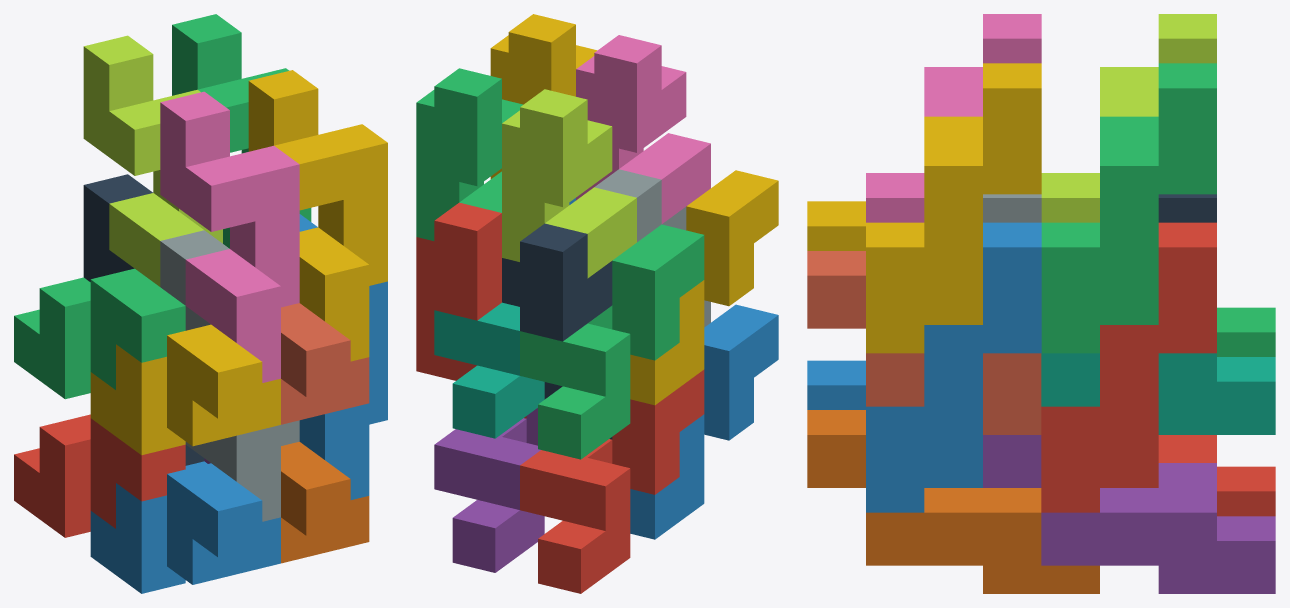
The model's file is tiling.obj.
3 views of the same model, side by side, from view 1: azimuth 30°, elevation 25°; view 2: azimuth 150°, elevation 25°; view 3: azimuth 270°, elevation 25° (orthographic). The views are drawn at different scales.
Visible parts, largest first — view 1: copy_2_domain_4, copy_2_domain_8, copy_1_domain_2, copy_1_domain_4, copy_1_domain_3, copy_2_domain_3, copy_1_domain_1, copy_1_domain_8, copy_1_domain_6, copy_2_domain_2, copy_2_domain_6, copy_2_domain_7 (+1 smaller); view 2: copy_1_domain_3, copy_1_domain_1, copy_2_domain_3, copy_2_domain_4, copy_1_domain_4, copy_1_domain_2, copy_2_domain_7, copy_1_domain_5, copy_2_domain_5, copy_1_domain_7, copy_2_domain_1, copy_2_domain_8 (+1 smaller); view 3: copy_2_domain_7, copy_2_domain_8, copy_2_domain_5, copy_2_domain_6, copy_1_domain_5, copy_1_domain_6, copy_1_domain_7, copy_1_domain_8, copy_2_domain_4, copy_2_domain_3, copy_1_domain_1, copy_1_domain_2 (+4 smaller).
Boxes of the visible parts, left/top/right/bottom form: copy_2_domain_4: left=160, top=91, right=299, bottom=382; copy_2_domain_8: left=248, top=70, right=387, bottom=361; copy_1_domain_2: left=90, top=461, right=280, bottom=593; copy_1_domain_4: left=90, top=324, right=280, bottom=455; copy_1_domain_3: left=14, top=268, right=185, bottom=399; copy_2_domain_3: left=83, top=35, right=222, bottom=286; copy_1_domain_1: left=14, top=414, right=185, bottom=537; copy_1_domain_8: left=281, top=303, right=369, bottom=424; copy_1_domain_6: left=281, top=441, right=369, bottom=563; copy_2_domain_2: left=160, top=230, right=299, bottom=521; copy_2_domain_6: left=299, top=214, right=387, bottom=499; copy_2_domain_7: left=172, top=14, right=311, bottom=248; copy_1_domain_3: left=520, top=224, right=704, bottom=459; copy_1_domain_1: left=520, top=369, right=704, bottom=593; copy_2_domain_3: left=502, top=89, right=636, bottom=278; copy_2_domain_4: left=576, top=35, right=710, bottom=223; copy_1_domain_4: left=630, top=170, right=778, bottom=405; copy_1_domain_2: left=630, top=304, right=778, bottom=539; copy_2_domain_7: left=416, top=68, right=522, bottom=240; copy_1_domain_5: left=434, top=408, right=544, bottom=572; copy_2_domain_5: left=416, top=202, right=526, bottom=418; copy_1_domain_7: left=434, top=302, right=544, bottom=438; copy_2_domain_1: left=502, top=223, right=612, bottom=439; copy_2_domain_8: left=490, top=14, right=597, bottom=178; copy_2_domain_7: left=1041, top=63, right=1216, bottom=353; copy_2_domain_8: left=866, top=63, right=1041, bottom=353; copy_2_domain_5: left=1041, top=222, right=1216, bottom=512; copy_2_domain_6: left=866, top=222, right=1041, bottom=512; copy_1_domain_5: left=983, top=435, right=1275, bottom=593; copy_1_domain_6: left=807, top=410, right=1099, bottom=593; copy_1_domain_7: left=1041, top=353, right=1275, bottom=434; copy_1_domain_8: left=807, top=251, right=1041, bottom=434; copy_2_domain_4: left=866, top=14, right=1041, bottom=222; copy_2_domain_3: left=1041, top=14, right=1216, bottom=222; copy_1_domain_1: left=1100, top=435, right=1275, bottom=516; copy_1_domain_2: left=807, top=360, right=982, bottom=487.
Size of the model in its own units: 5 by 10 by 8.
